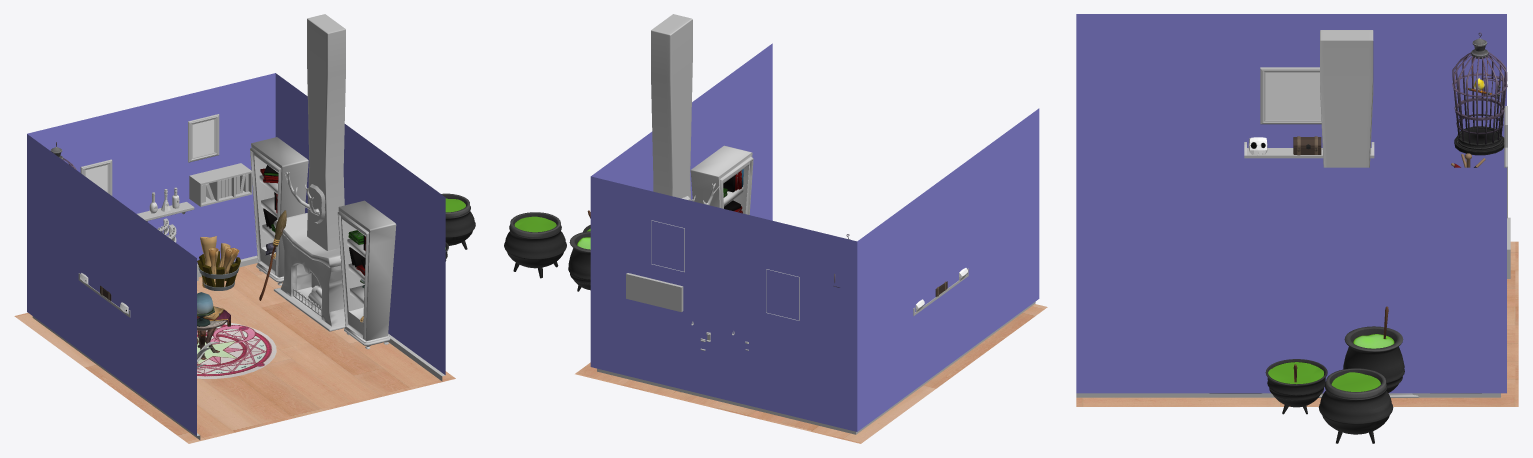
Rendered from Witchcraft Upgrades.fbx.
3 renders of one model, left to right at view 1: azimuth 30°, elevation 25°; view 2: azimuth 150°, elevation 25°; view 3: azimuth 270°, elevation 25°, orthographic. The views are drawn at different scales.
Visible parts, largest first — view 1: RoomWall, RoomFloor, Fireplace, BookShelf1, BookShelf2, Rag, Shelve2, Caldero_01_Sphere.002, SrollBucket, Sketchfab_08_Lights.002, Frame3Painting.001, Cube.010 (+5 smaller); view 2: RoomWall, Fireplace, RoomFloor, BookShelf1, Caldero_01_Sphere.002, Shelve2, Caldero_02_Sphere.003; view 3: RoomWall, Fireplace, RoomFloor, BirdCage, Caldero_01_Sphere.002, Frame3Painting.003, Caldero_02_Sphere.003, Caldero_00_Sphere.002, Frame4, Caldero_00_Sphere.001, Caldero_01_Sphere.001, Shelve1 (+2 smaller).
Boxes of the visible parts, x1=… form: RoomWall: x1=27, y1=73, x2=445, y2=439; RoomFloor: x1=14, y1=263, x2=455, y2=443; Fireplace: x1=273, y1=14, x2=345, y2=331; BookShelf1: x1=337, y1=200, x2=396, y2=349; BookShelf2: x1=250, y1=137, x2=308, y2=285; Rag: x1=197, y1=322, x2=276, y2=378; Shelve2: x1=189, y1=163, x2=252, y2=206; Caldero_01_Sphere.002: x1=441, y1=193, x2=475, y2=249; SrollBucket: x1=197, y1=251, x2=240, y2=290; Sketchfab_08_Lights.002: x1=200, y1=236, x2=239, y2=287; Frame3Painting.001: x1=192, y1=119, x2=214, y2=157; Cube.010: x1=201, y1=174, x2=248, y2=202; RoomWall: x1=590, y1=43, x2=1039, y2=434; Fireplace: x1=651, y1=14, x2=692, y2=198; RoomFloor: x1=575, y1=304, x2=1047, y2=443; BookShelf1: x1=690, y1=145, x2=753, y2=214; Caldero_01_Sphere.002: x1=504, y1=212, x2=566, y2=278; Shelve2: x1=626, y1=273, x2=683, y2=312; Caldero_02_Sphere.003: x1=568, y1=231, x2=590, y2=291; RoomWall: x1=1076, y1=14, x2=1506, y2=397; Fireplace: x1=1318, y1=30, x2=1418, y2=397; RoomFloor: x1=1076, y1=241, x2=1518, y2=406; BirdCage: x1=1452, y1=32, x2=1507, y2=155; Caldero_01_Sphere.002: x1=1318, y1=368, x2=1393, y2=443; Frame3Painting.003: x1=1265, y1=72, x2=1321, y2=119; Caldero_02_Sphere.003: x1=1343, y1=326, x2=1404, y2=392; Caldero_00_Sphere.002: x1=1265, y1=359, x2=1327, y2=414; Frame4: x1=1260, y1=67, x2=1321, y2=124; Caldero_00_Sphere.001: x1=1268, y1=362, x2=1323, y2=384; Caldero_01_Sphere.001: x1=1331, y1=372, x2=1380, y2=391; Shelve1: x1=1244, y1=142, x2=1374, y2=158.
Size of the model in its own units: 2071 by 1433 by 1592.
